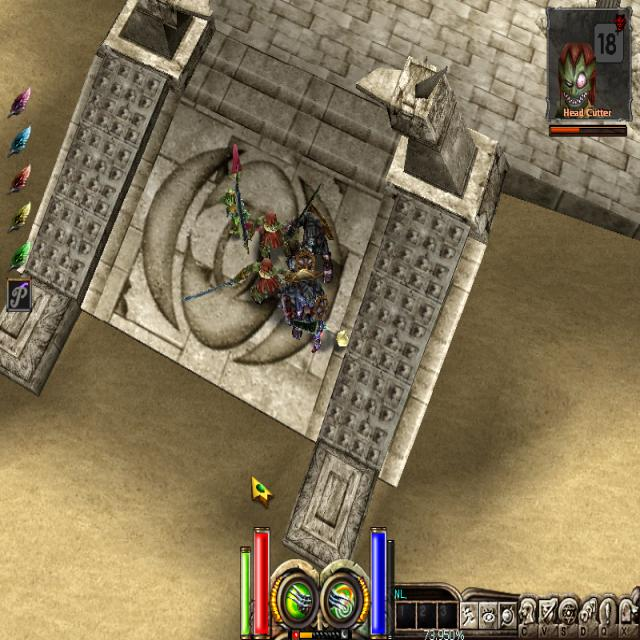monster: (290, 196, 342, 274), (282, 268, 330, 350), (210, 163, 254, 241), (244, 195, 294, 260), (234, 246, 282, 312), (326, 318, 356, 366)
